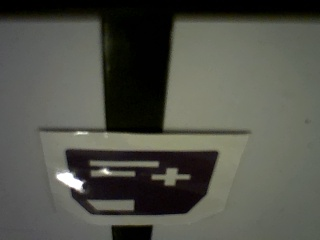Supply_Station: (66, 149, 219, 214)
